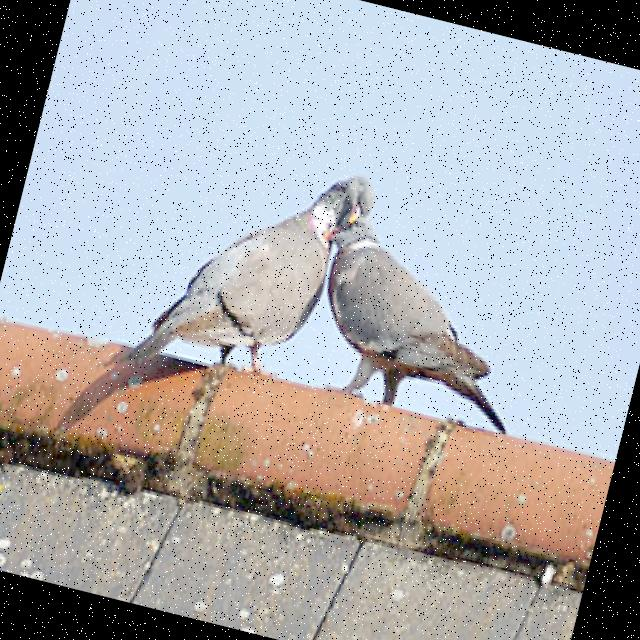bird: (268, 166, 560, 440), (132, 131, 382, 402)
